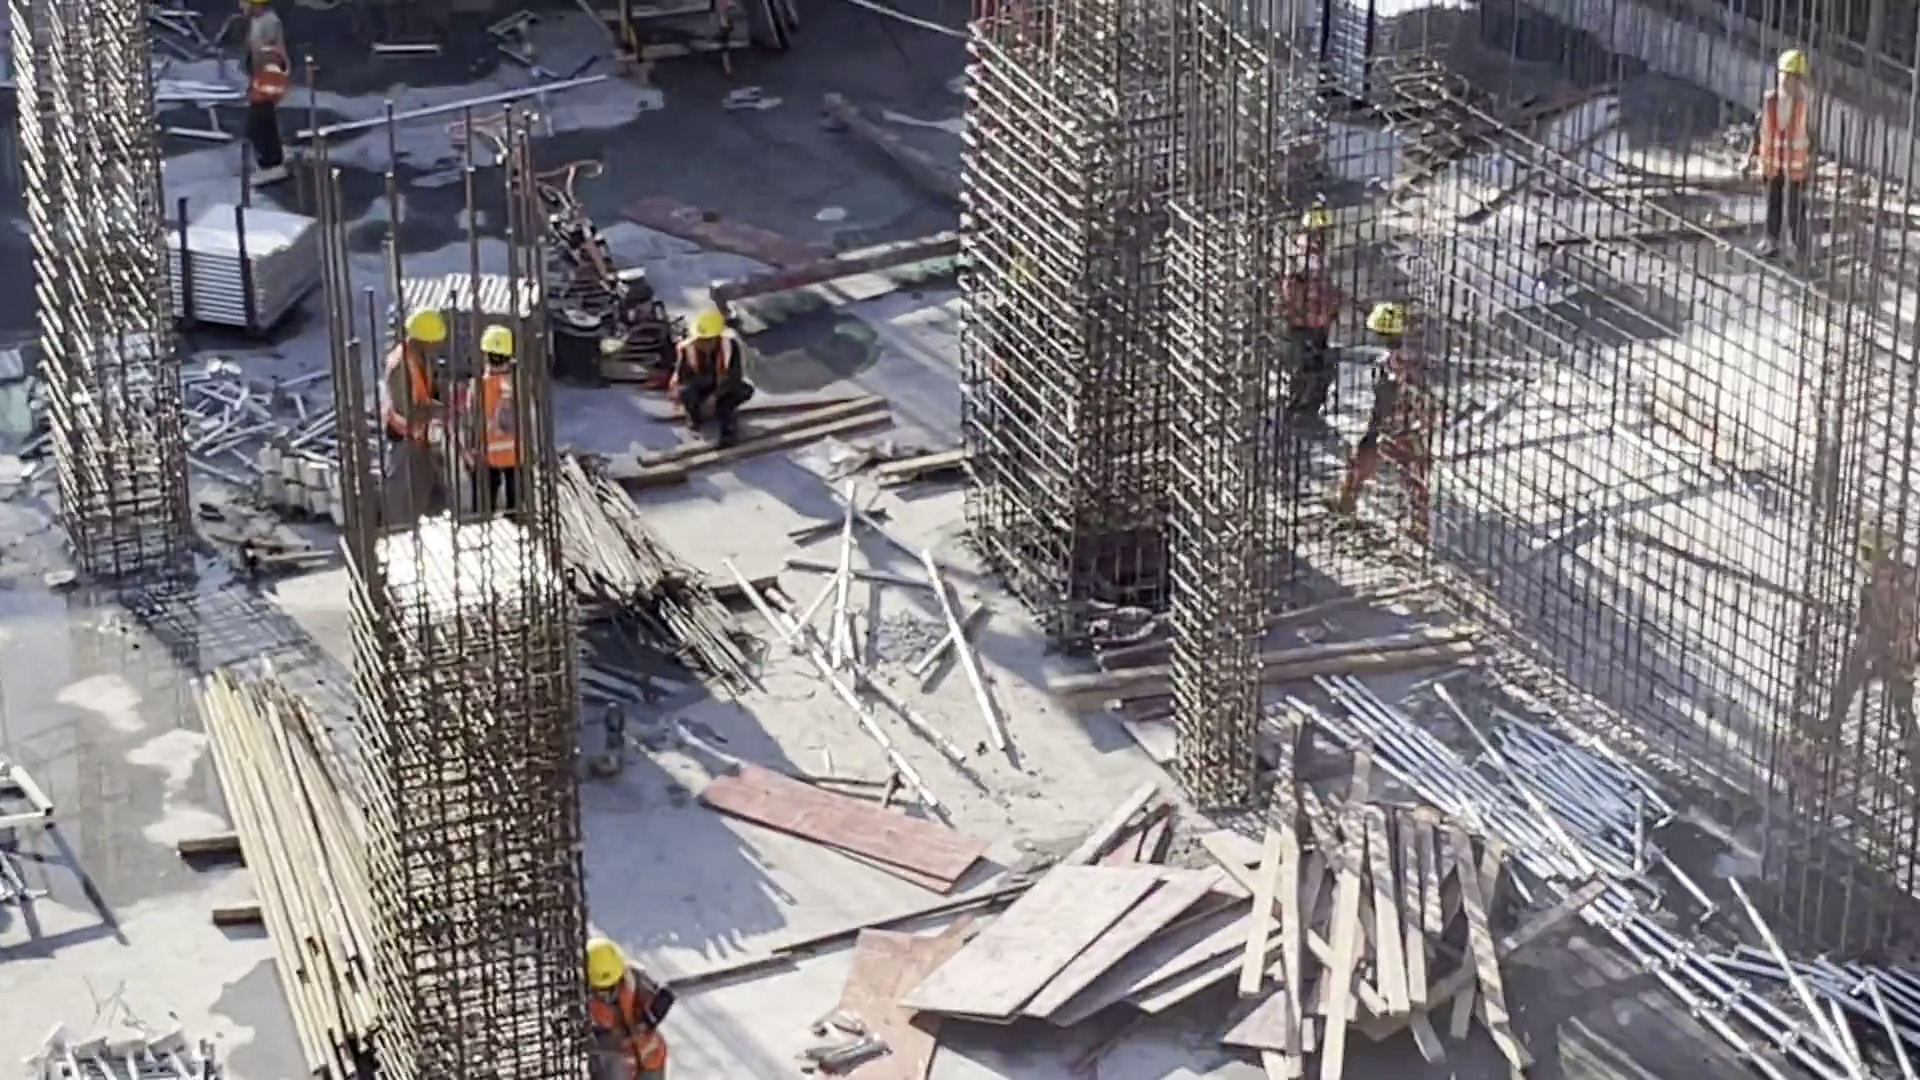helmet: (580, 931, 634, 986), (401, 300, 447, 345), (1856, 519, 1917, 553), (1377, 295, 1418, 339), (1310, 186, 1336, 234), (691, 305, 721, 346), (481, 322, 514, 358), (1775, 50, 1808, 79)
person: (1340, 304, 1460, 535), (1263, 201, 1371, 456), (1836, 478, 1920, 762), (564, 902, 678, 1080), (364, 311, 467, 493), (456, 298, 536, 511), (1758, 45, 1825, 279), (658, 295, 756, 445), (228, 4, 303, 194)
vest: (576, 975, 671, 1070), (462, 374, 534, 472), (1367, 351, 1443, 437), (1761, 88, 1823, 187), (1280, 245, 1343, 335), (1866, 565, 1920, 665), (377, 344, 436, 435), (672, 339, 738, 399), (246, 25, 293, 102)
